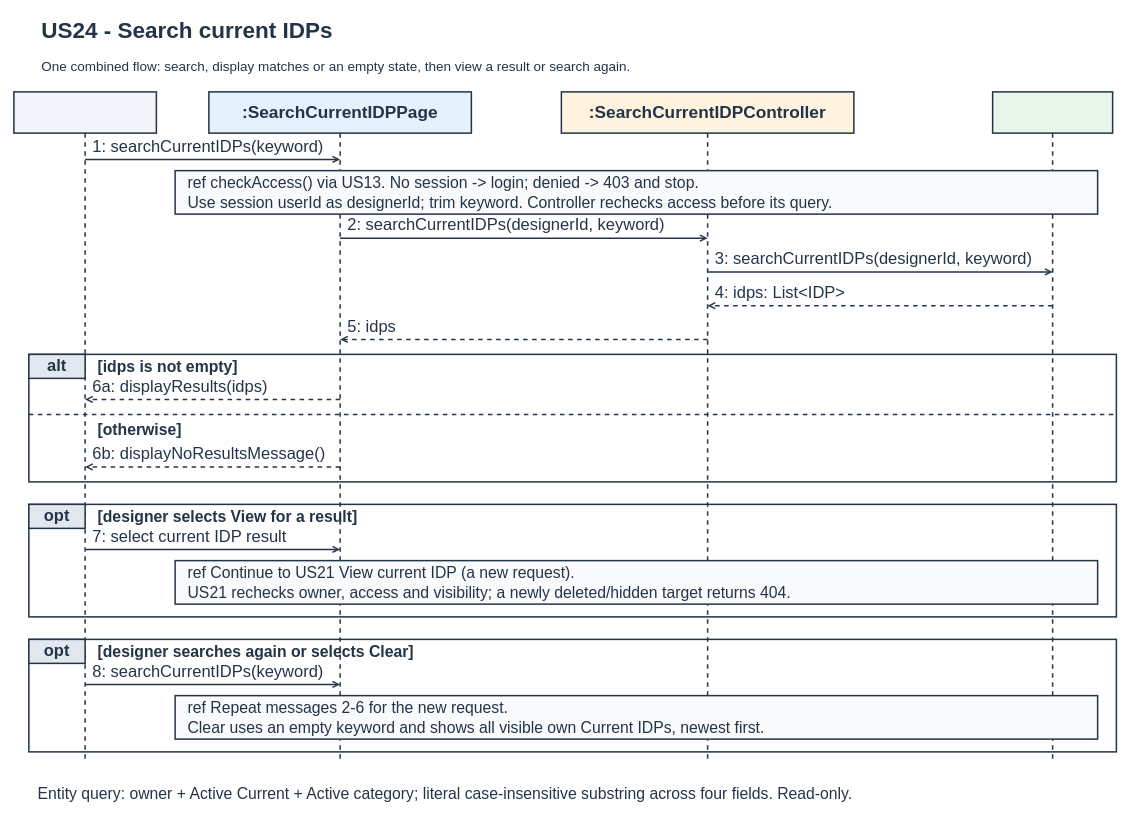
Image size: 1130x817. Some labels were removed from this diagram. The shapes that lost their labels are listed below. From the top down, each one's centre as x and y in pixels, then its label:
At (x=85, y=112): "Interior Designer".
At (x=1052, y=112): ":IDP".
